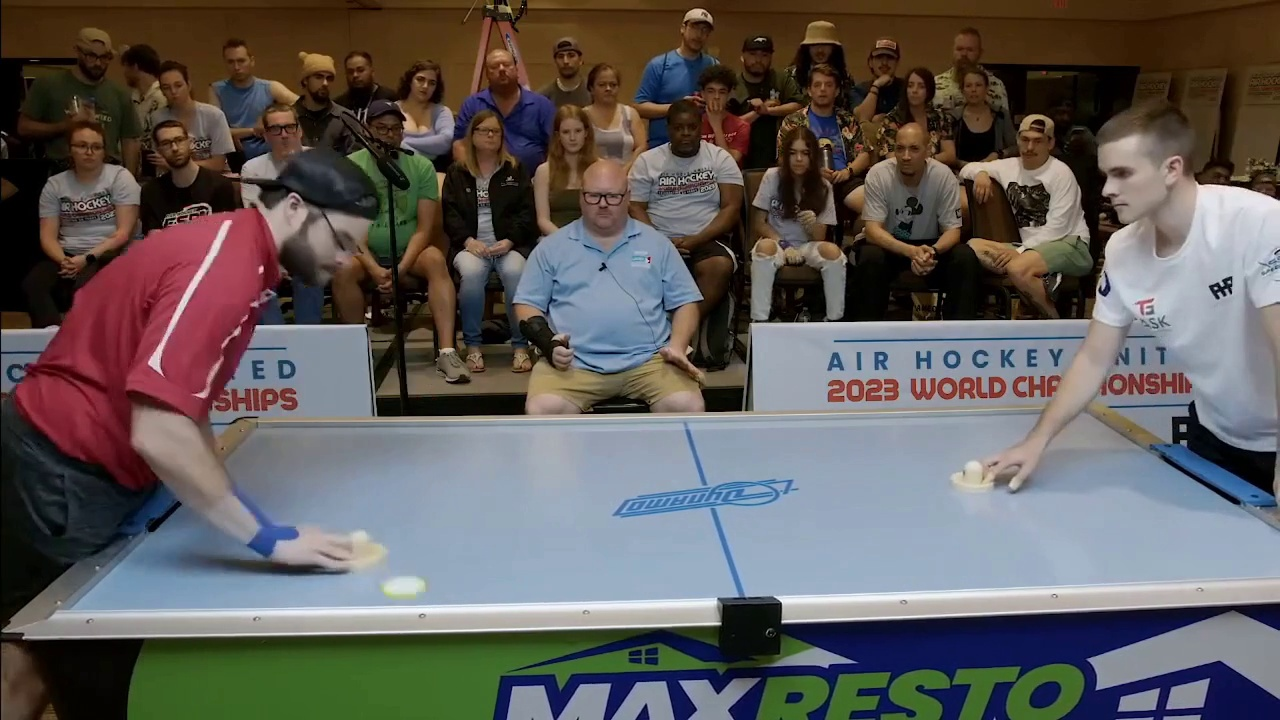player: (337, 526, 389, 569), (954, 461, 1002, 497)
puck: (380, 574, 426, 599)
table: (62, 414, 1278, 597)
